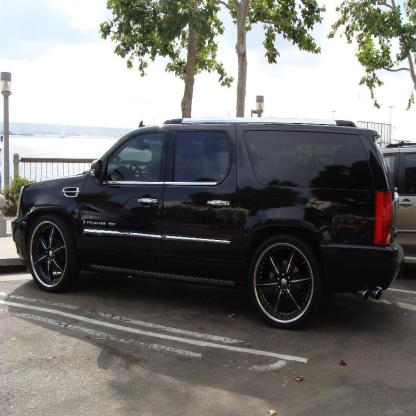Car: (12, 118, 405, 330), (380, 141, 416, 264)
